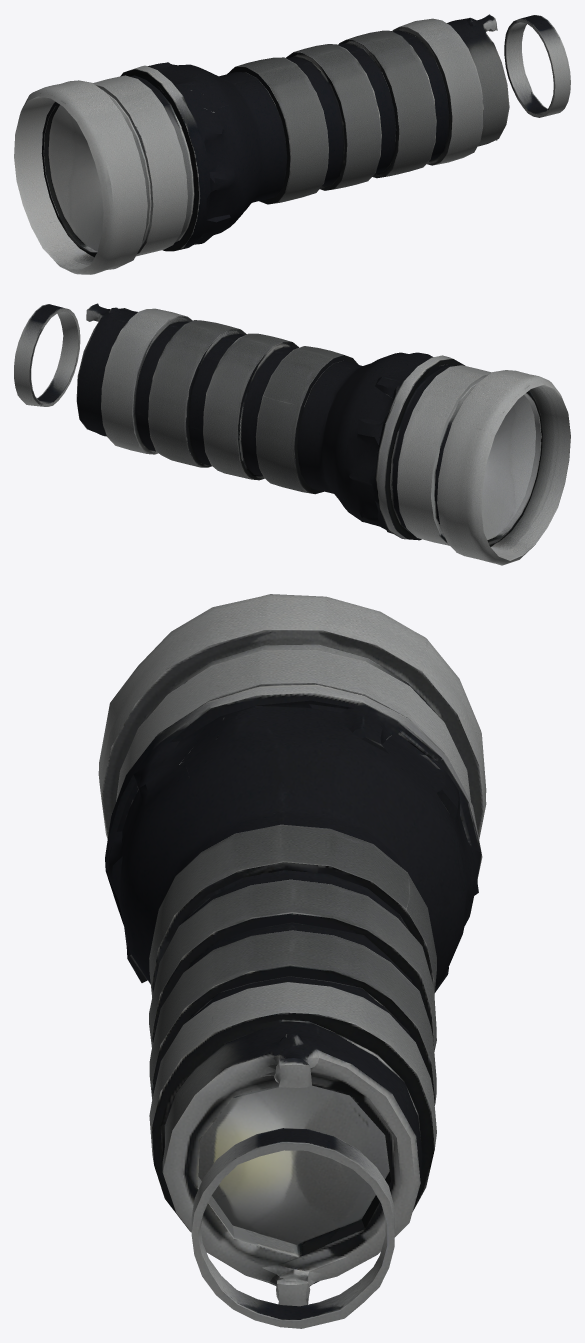
Rendered from flashlight.glb.
3 renders of one model, top to bottom at view 1: azimuth 30°, elevation 25°; view 2: azimuth 150°, elevation 25°; view 3: azimuth 270°, elevation 25°, orthographic. The views are drawn at different scales.
Visible parts, largest first — view 1: Mesh_0; view 2: Mesh_0; view 3: Mesh_0.
Boxes of the visible parts, x1,y1,x2,y2 form: Mesh_0: (14, 14, 570, 274); Mesh_0: (14, 303, 570, 565); Mesh_0: (98, 594, 486, 1328).
Size of the model in its own units: 1.9 by 0.6508 by 0.6549.
1 material, 1 textured.
